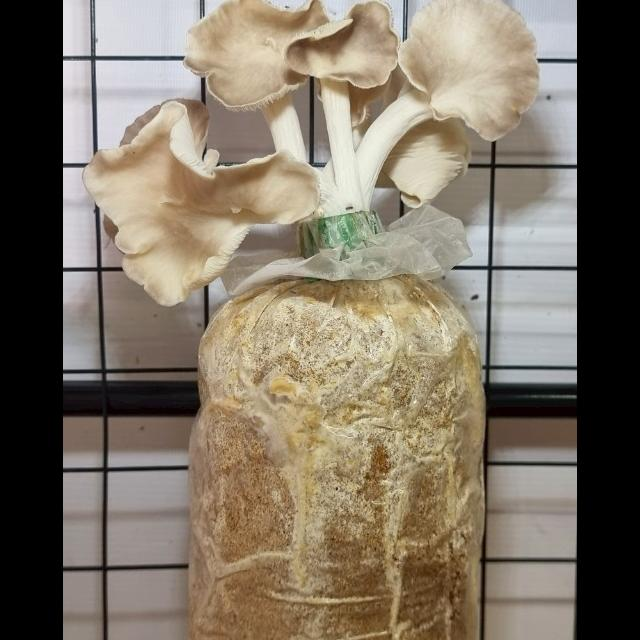normal: (337, 0, 543, 233), (93, 111, 319, 317), (171, 0, 397, 133)
